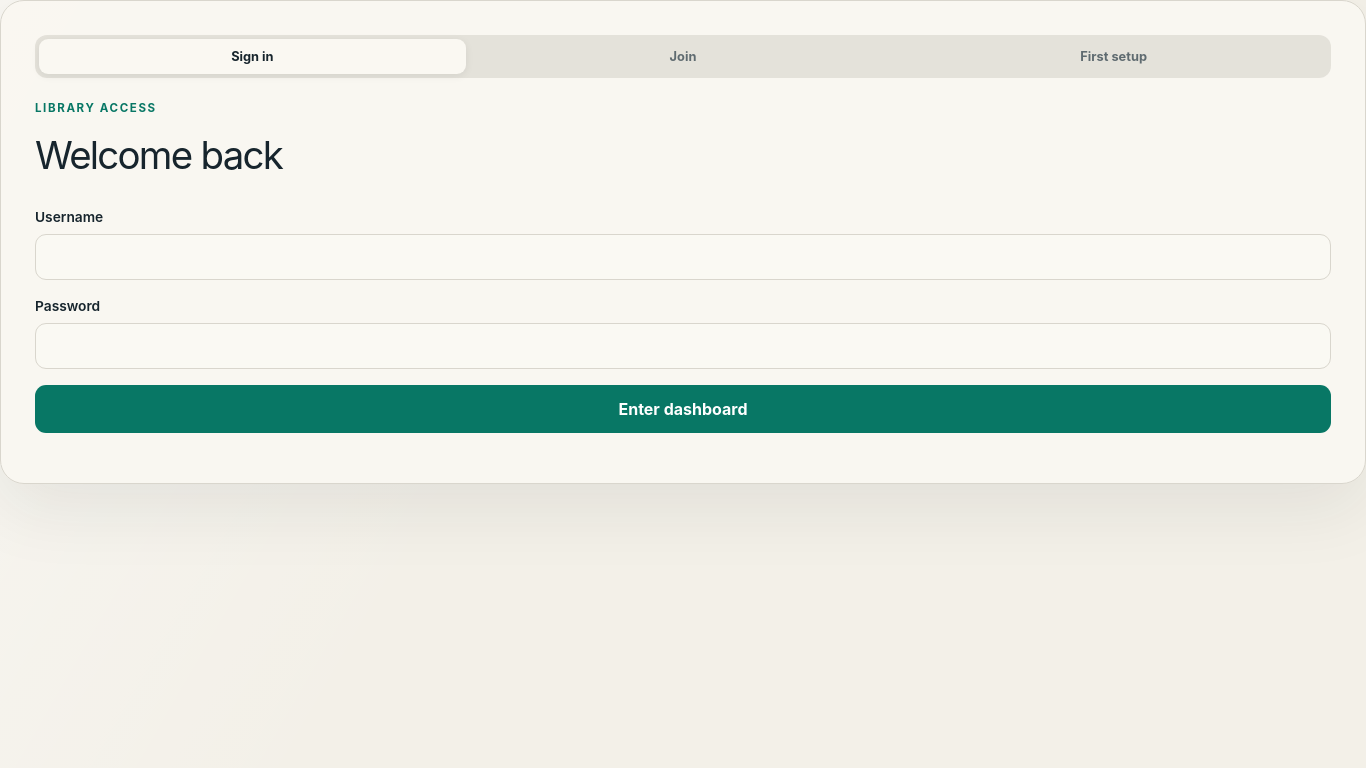
exposes registration and bootstrap as keyboard-operable tabs
Click the tab "Join" at x=683, y=57, box [470,39,896,74]
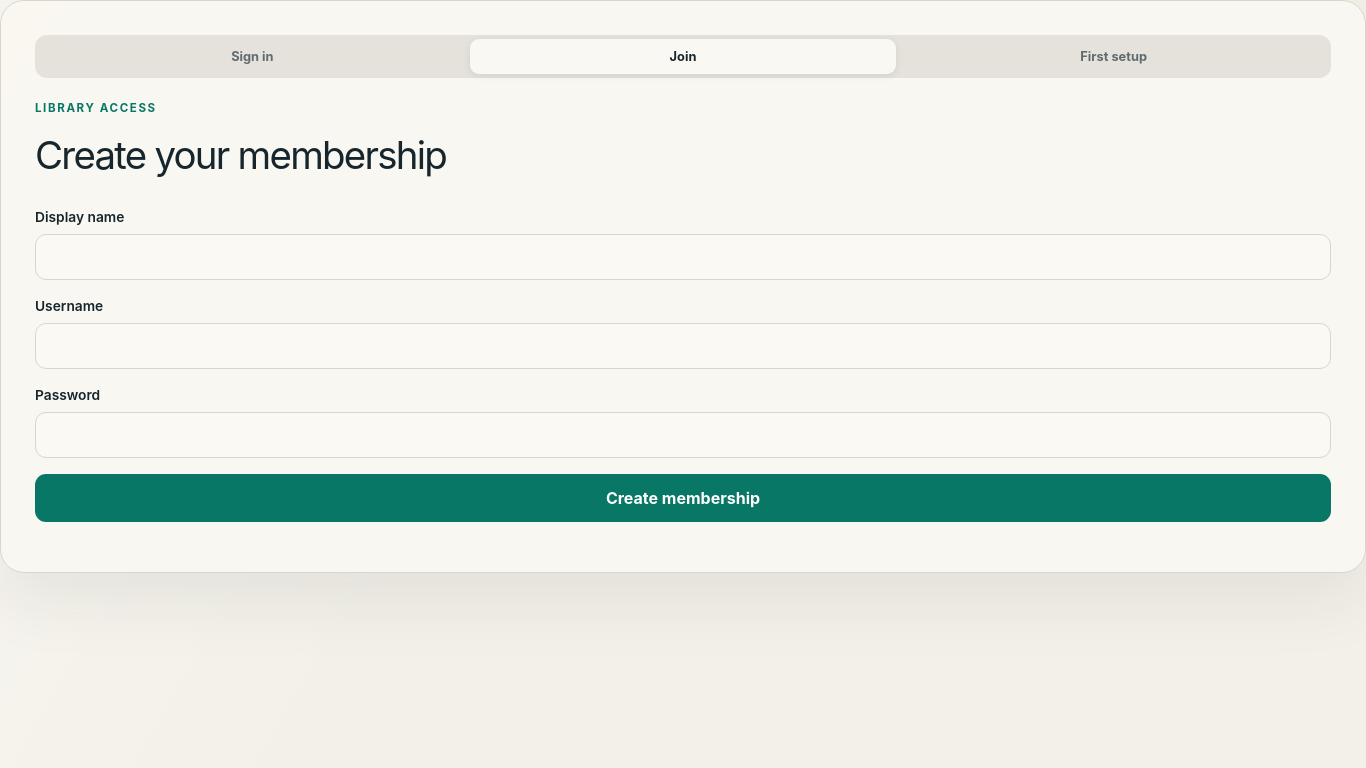
Expected: the heading "Create your membership" is shown, [35,132,446,178]
Click the tab "First setup" at x=1114, y=57, box [900,39,1327,74]
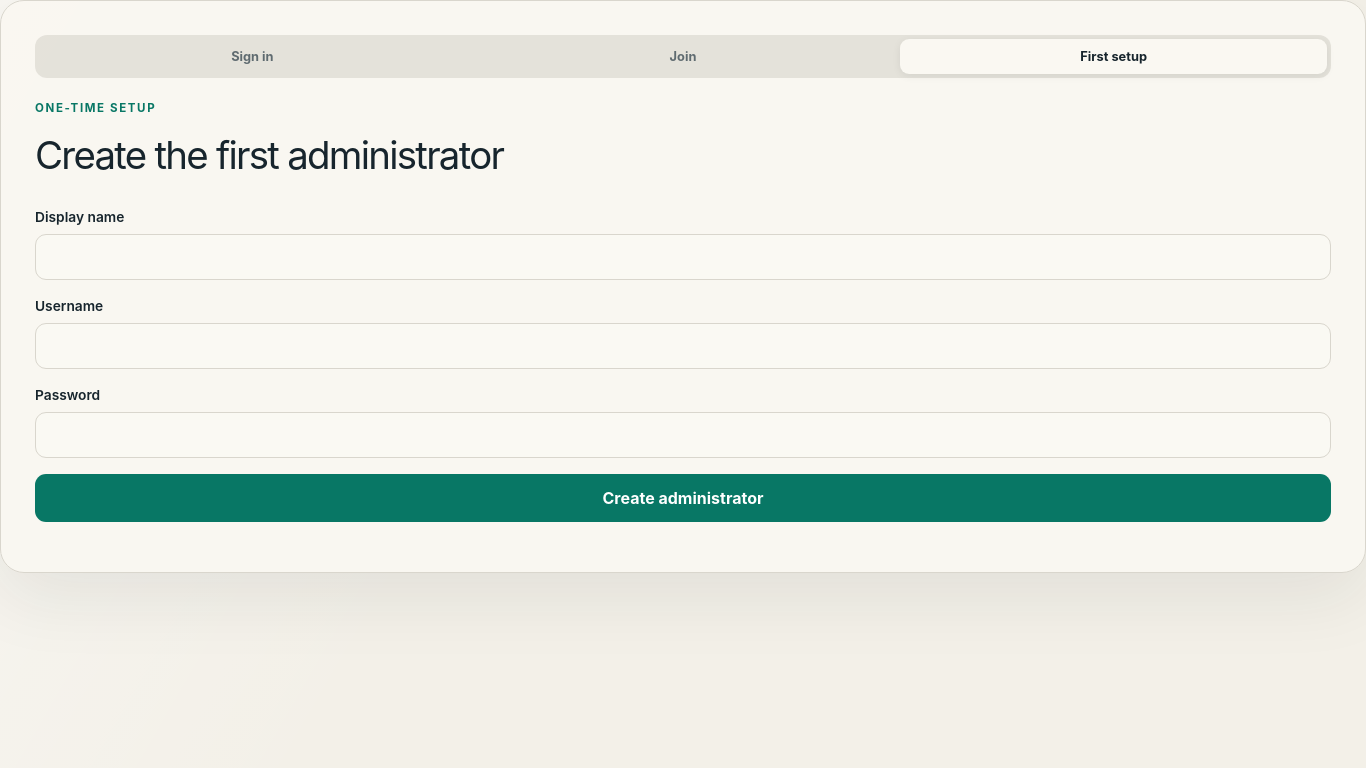
Expected: the heading "Create the first administrator" is shown, [35,132,503,178]
